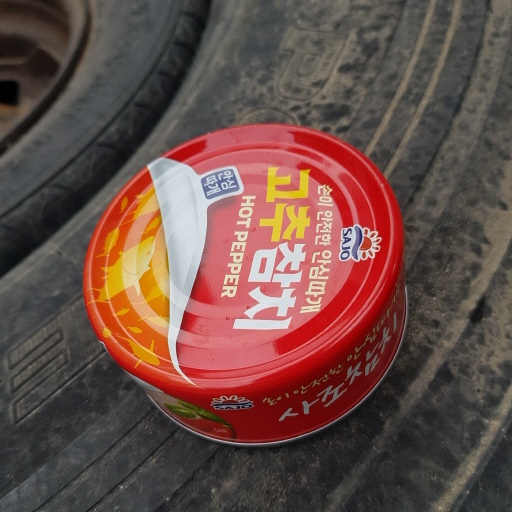Metal_1: (79, 122, 414, 452)
